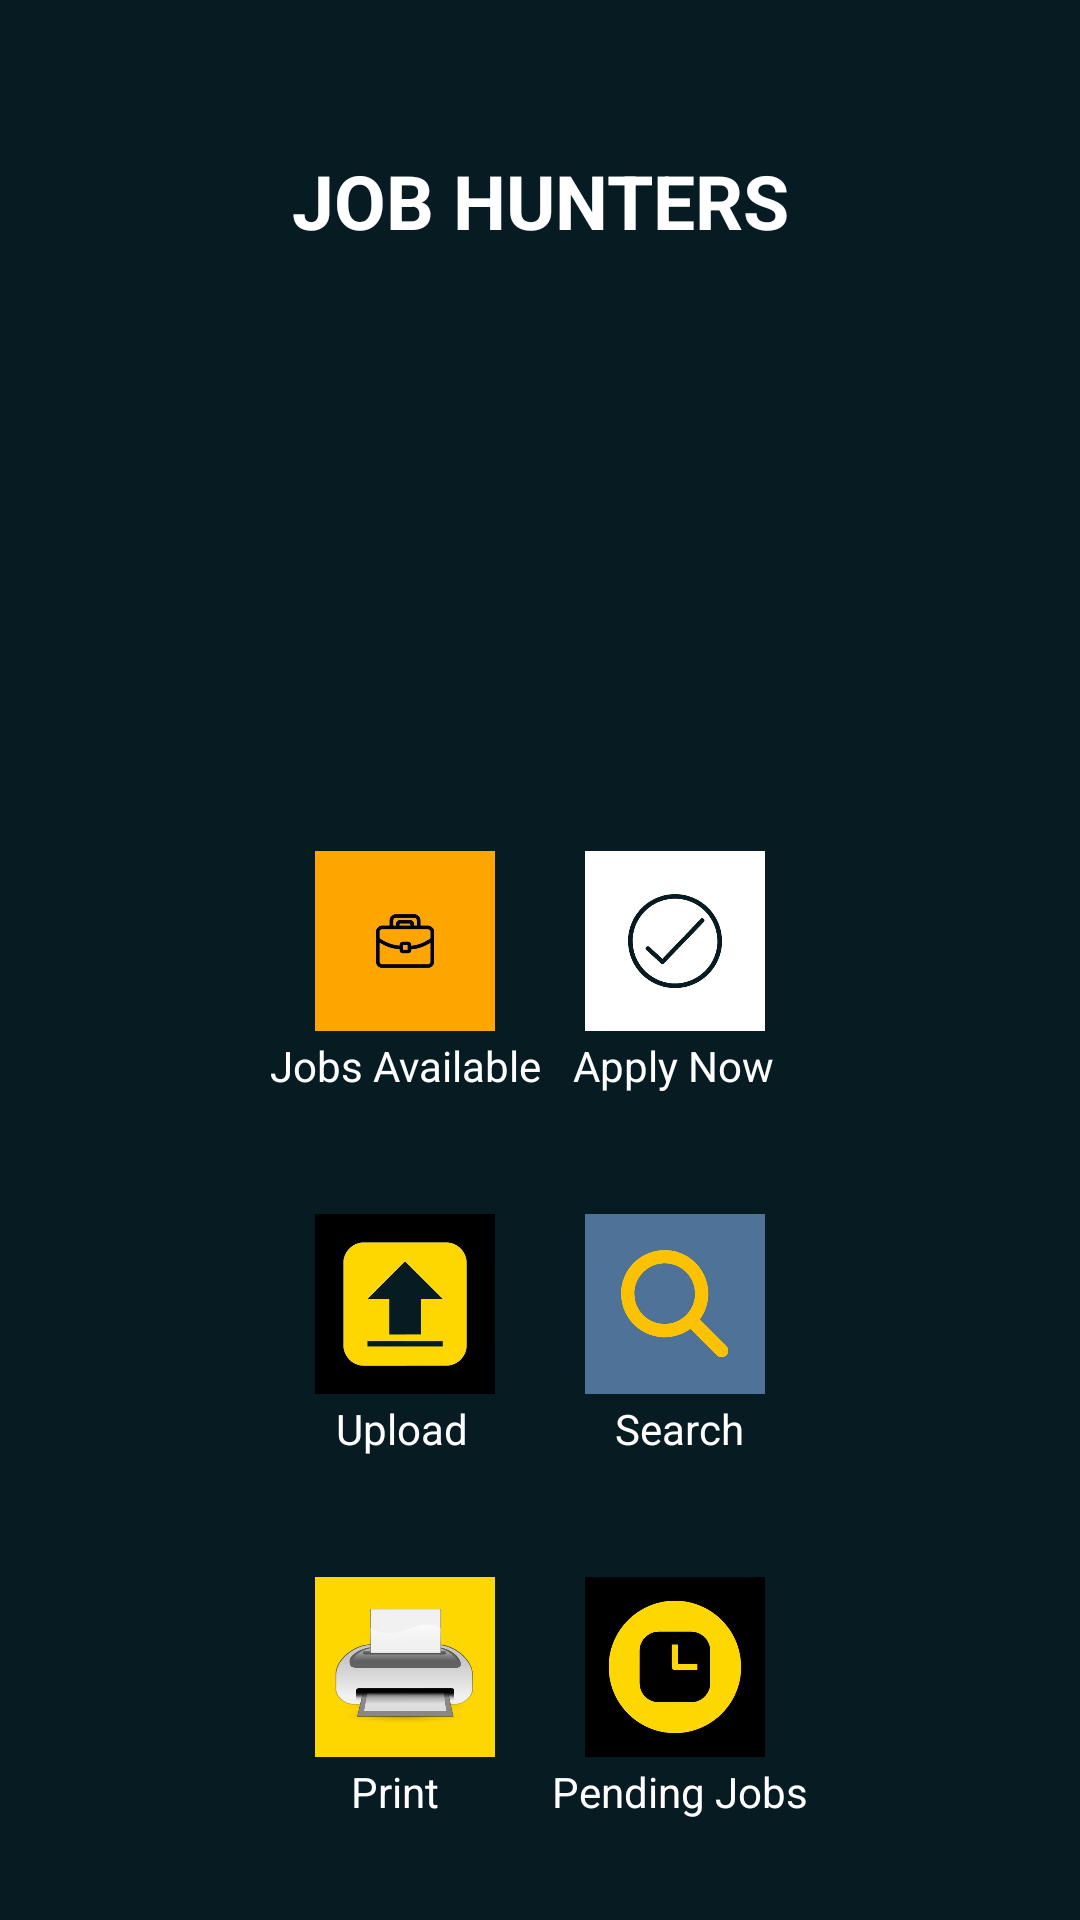

Where icons sit on this 1080px×1920px app screen, as box=[x1, y1, x2, y2]:
briefcase: box=[315, 851, 495, 1031]
